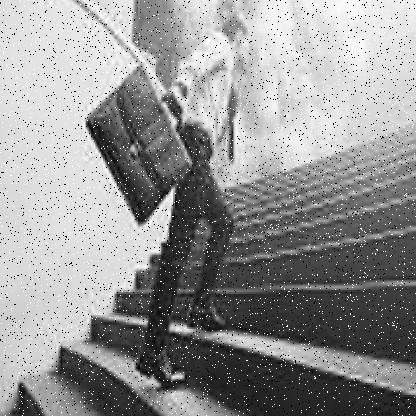stair_up: (76, 274, 330, 389)
